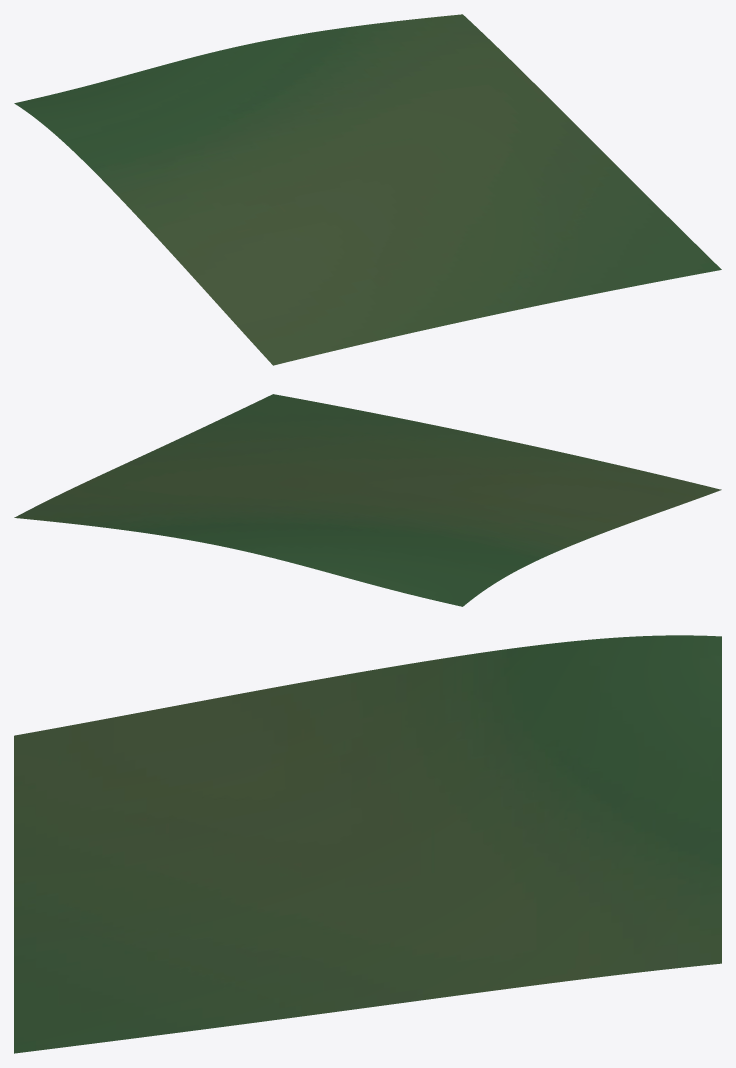
File: terrain_T_E00_N05.glb
3 renders of one model, top to bottom at view 1: azimuth 30°, elevation 25°; view 2: azimuth 150°, elevation 25°; view 3: azimuth 270°, elevation 25°, orthographic. The views are drawn at different scales.
Parts seen in each view (by area): view 1: Terrain_T_E00_N05; view 2: Terrain_T_E00_N05; view 3: Terrain_T_E00_N05.
Boxes of the visible parts, left/top/right/bottom form: Terrain_T_E00_N05: left=14, top=14, right=721, bottom=365; Terrain_T_E00_N05: left=14, top=394, right=721, bottom=606; Terrain_T_E00_N05: left=14, top=635, right=721, bottom=1053.
Size of the model in its own units: 2000 by 378 by 2000.
Materials: 1 (1 with a texture image).
